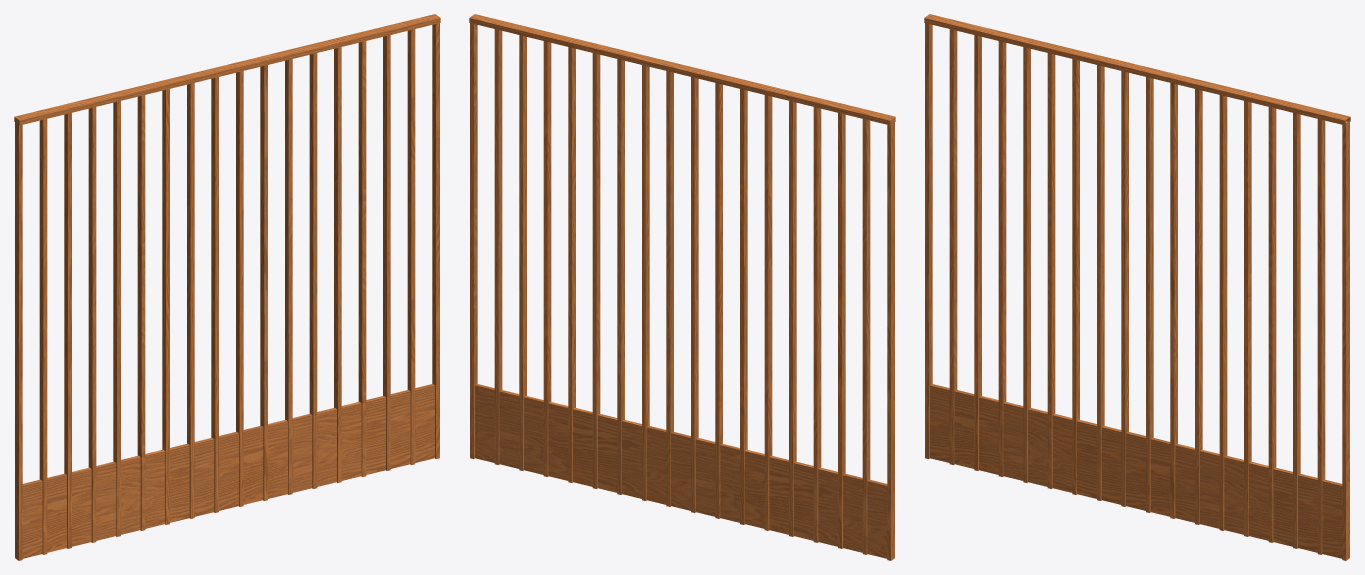
File: ladder_019.fbx
3 renders of one model, left to right at view 1: azimuth 30°, elevation 25°; view 2: azimuth 150°, elevation 25°; view 3: azimuth 330°, elevation 25°, orthographic.
Visible parts, largest first — view 1: ladder_019; view 2: ladder_019; view 3: ladder_019.
Part boxes in pixels (x1,y1,x2,y2): ladder_019: [14, 14, 440, 560]; ladder_019: [469, 14, 895, 560]; ladder_019: [924, 14, 1350, 560].
Size of the model in its own units: 400 by 8.98 by 400.
